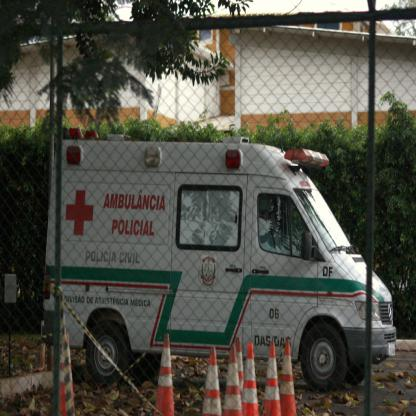Ambulance: (45, 135, 398, 393)
